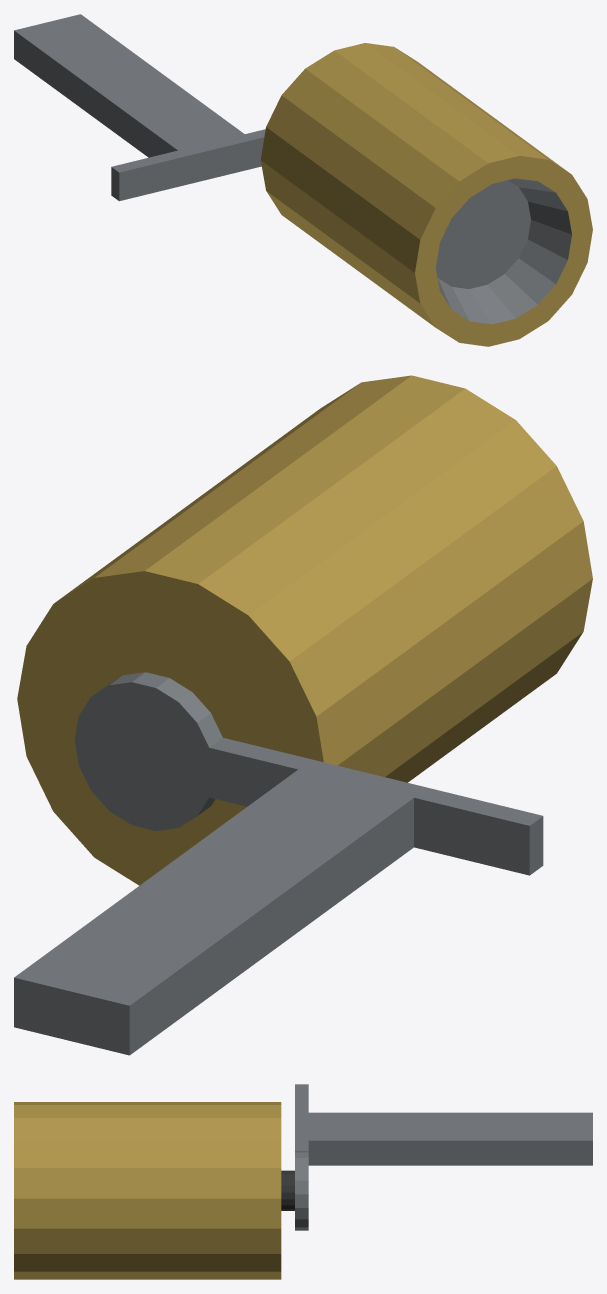
Rendered from YellowMetalMechLargeConveyorRoller1.fbx.
3 views of the same model, one above another, from view 1: azimuth 30°, elevation 25°; view 2: azimuth 150°, elevation 25°; view 3: azimuth 270°, elevation 25° (orthographic). The views are drawn at different scales.
Parts seen in each view (by area): view 1: YellowMetalMechLargeConveyorRoller1; view 2: YellowMetalMechLargeConveyorRoller1; view 3: YellowMetalMechLargeConveyorRoller1.
Boxes of the visible parts, x1=… form: YellowMetalMechLargeConveyorRoller1: x1=14, y1=14, x2=592, y2=346; YellowMetalMechLargeConveyorRoller1: x1=14, y1=375, x2=592, y2=1055; YellowMetalMechLargeConveyorRoller1: x1=14, y1=1084, x2=592, y2=1279.
Bounding box in the file's own units: 350 × 197 × 650.
Materials: 3 (3 with a texture image).
